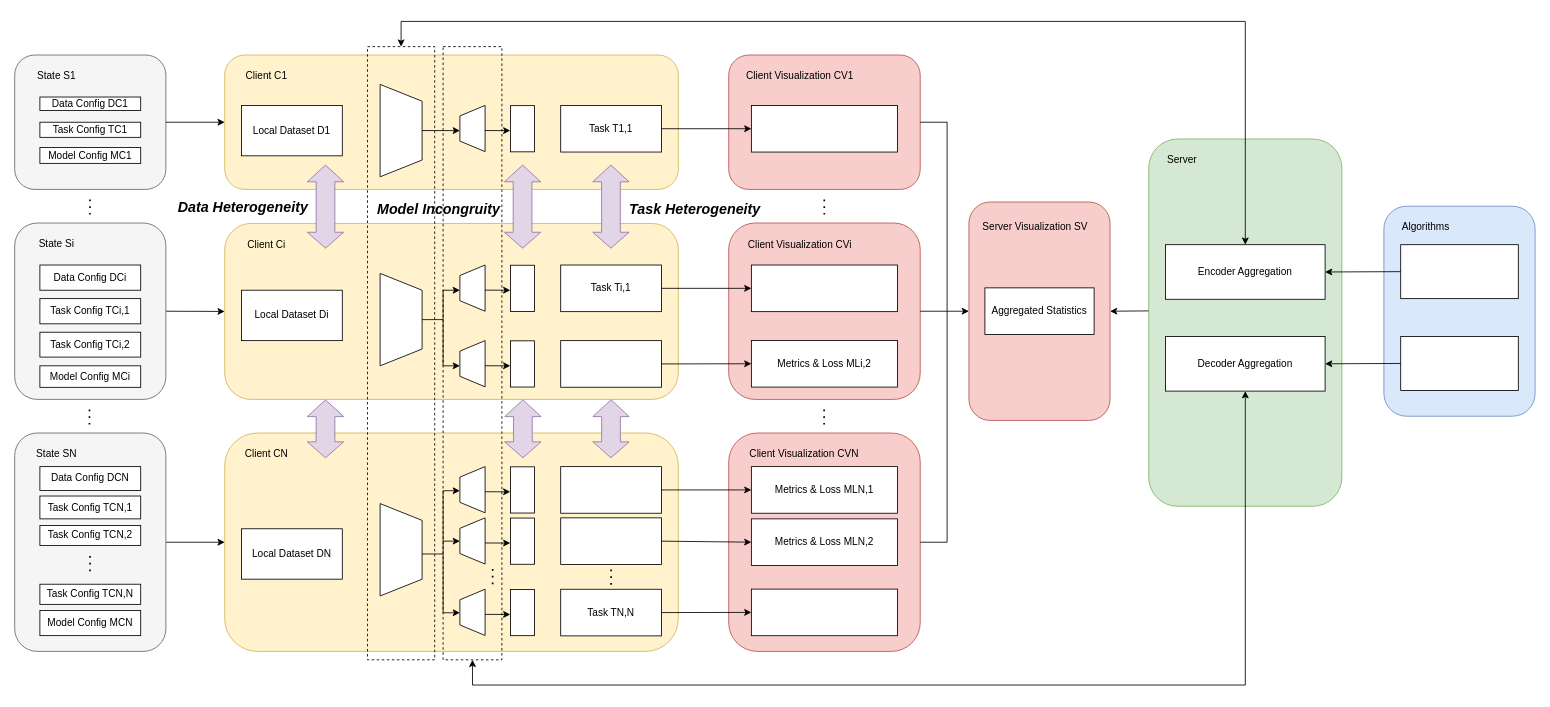
Some shapes in this 1550 by 707 pixel diagram are drawn without their labels. The centre of each missing label's shape, as x and y in pixels:
Decoder Aggregation Config: pixel 1459 363
Encoder Aggregation Config: pixel 1459 271
Metrics & Loss ML1,1: pixel 824 128
Metrics & Loss MLi,1: pixel 824 288
Metrics & Loss MLN,N: pixel 824 612
Task Ti,2: pixel 611 363
Task TN,1: pixel 611 489
Task TN,2: pixel 611 540
